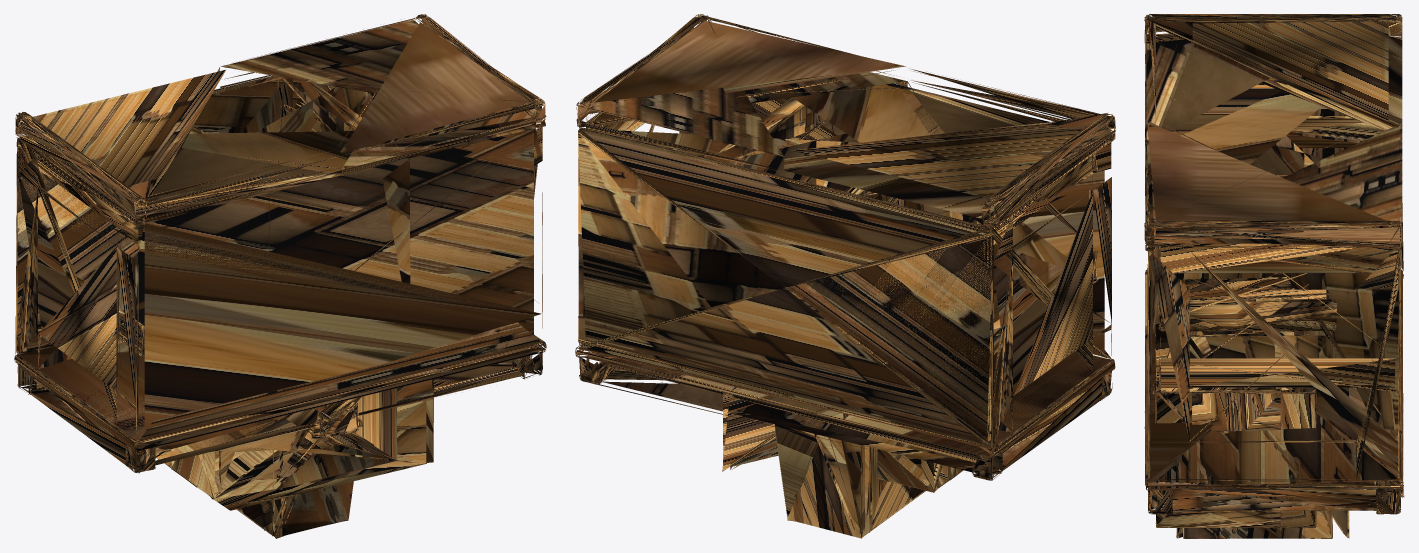
The model's file is six-drawer-chest.glb.
3 renders of one model, left to right at view 1: azimuth 30°, elevation 25°; view 2: azimuth 150°, elevation 25°; view 3: azimuth 270°, elevation 25°, orthographic. The views are drawn at different scales.
Visible parts, largest first — view 1: vintage_wooden_drawer_01_body, vintage_wooden_drawer_01_drawer03, vintage_wooden_drawer_01_drawer05, vintage_wooden_drawer_01_drawer06, vintage_wooden_drawer_01_drawer02; view 2: vintage_wooden_drawer_01_body, vintage_wooden_drawer_01_drawer01, vintage_wooden_drawer_01_drawer05, vintage_wooden_drawer_01_drawer02, vintage_wooden_drawer_01_drawer04; view 3: vintage_wooden_drawer_01_body, vintage_wooden_drawer_01_drawer04, vintage_wooden_drawer_01_drawer02, vintage_wooden_drawer_01_drawer03, vintage_wooden_drawer_01_drawer01, vintage_wooden_drawer_01_drawer06, vintage_wooden_drawer_01_drawer05.
Part boxes in pixels (<box>): vintage_wooden_drawer_01_body: <box>14,14,546,473</box>; vintage_wooden_drawer_01_drawer03: <box>171,379,433,510</box>; vintage_wooden_drawer_01_drawer05: <box>272,388,397,489</box>; vintage_wooden_drawer_01_drawer06: <box>271,419,353,538</box>; vintage_wooden_drawer_01_drawer02: <box>236,421,276,536</box>; vintage_wooden_drawer_01_body: <box>575,14,1115,480</box>; vintage_wooden_drawer_01_drawer01: <box>774,424,924,538</box>; vintage_wooden_drawer_01_drawer05: <box>722,387,848,471</box>; vintage_wooden_drawer_01_drawer02: <box>865,446,925,532</box>; vintage_wooden_drawer_01_drawer04: <box>877,449,963,492</box>; vintage_wooden_drawer_01_body: <box>1144,14,1403,514</box>; vintage_wooden_drawer_01_drawer04: <box>1191,373,1316,527</box>; vintage_wooden_drawer_01_drawer02: <box>1183,278,1332,538</box>; vintage_wooden_drawer_01_drawer03: <box>1155,350,1281,527</box>; vintage_wooden_drawer_01_drawer01: <box>1199,279,1349,538</box>; vintage_wooden_drawer_01_drawer06: <box>1176,277,1323,538</box>; vintage_wooden_drawer_01_drawer05: <box>1144,322,1404,497</box>.
Bounding box in the file's own units: 0.8576 × 0.7667 × 0.4433.
1 material, 1 textured.
